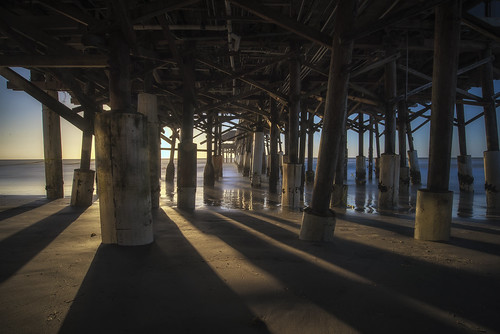beach: (2, 201, 500, 334)
collumn: (409, 11, 460, 241), (305, 17, 355, 243), (101, 72, 153, 244), (373, 59, 406, 215), (476, 52, 500, 211), (284, 62, 307, 217), (38, 98, 70, 207), (169, 115, 199, 211), (70, 113, 98, 212), (455, 92, 478, 198), (264, 105, 284, 200), (351, 110, 368, 194), (202, 124, 224, 188), (249, 111, 267, 189)
